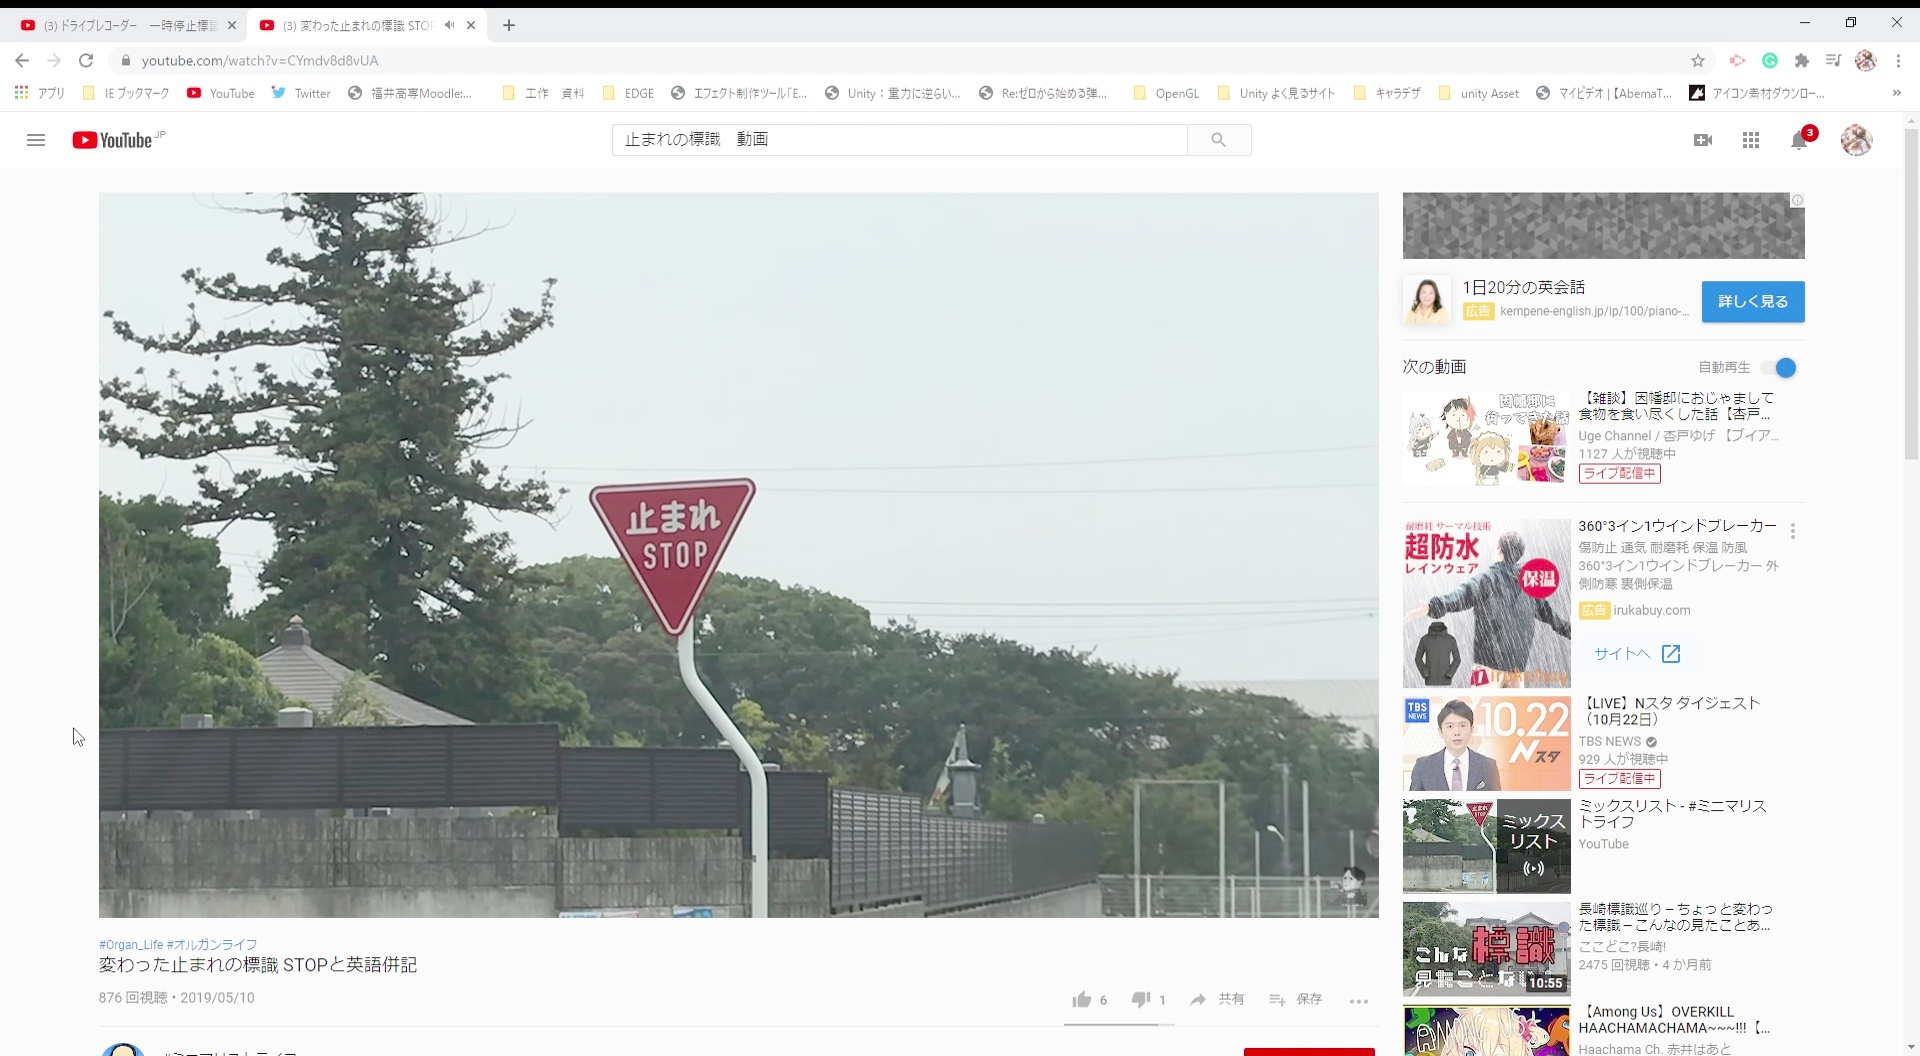Regulatory_sign_triangle: (582, 458, 783, 650)
